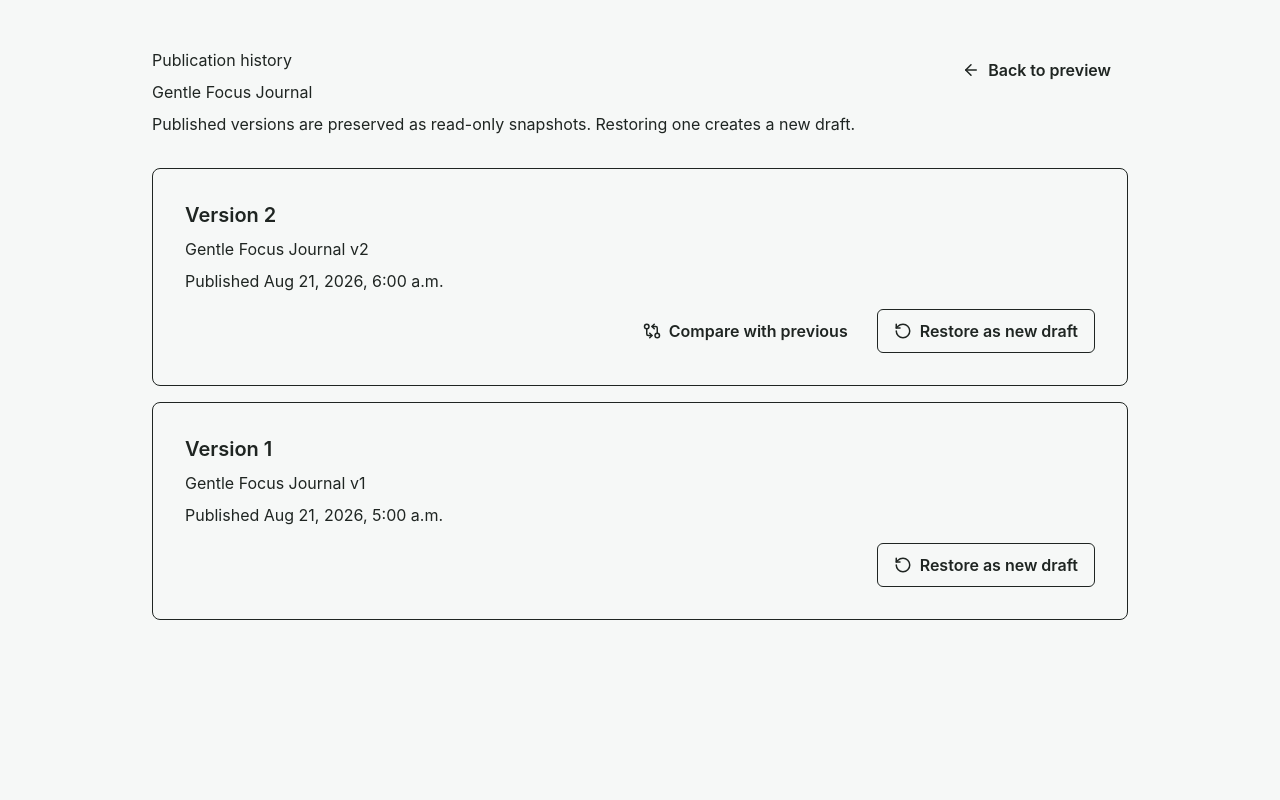
PublicationHistoryPage › compares a published version with its previous snapshot
The width and height of the screenshot is (1280, 800).
Click the button "Compare with previous" at {"x": 745, "y": 331}, box [626,309,865,353]
(page scrolled)
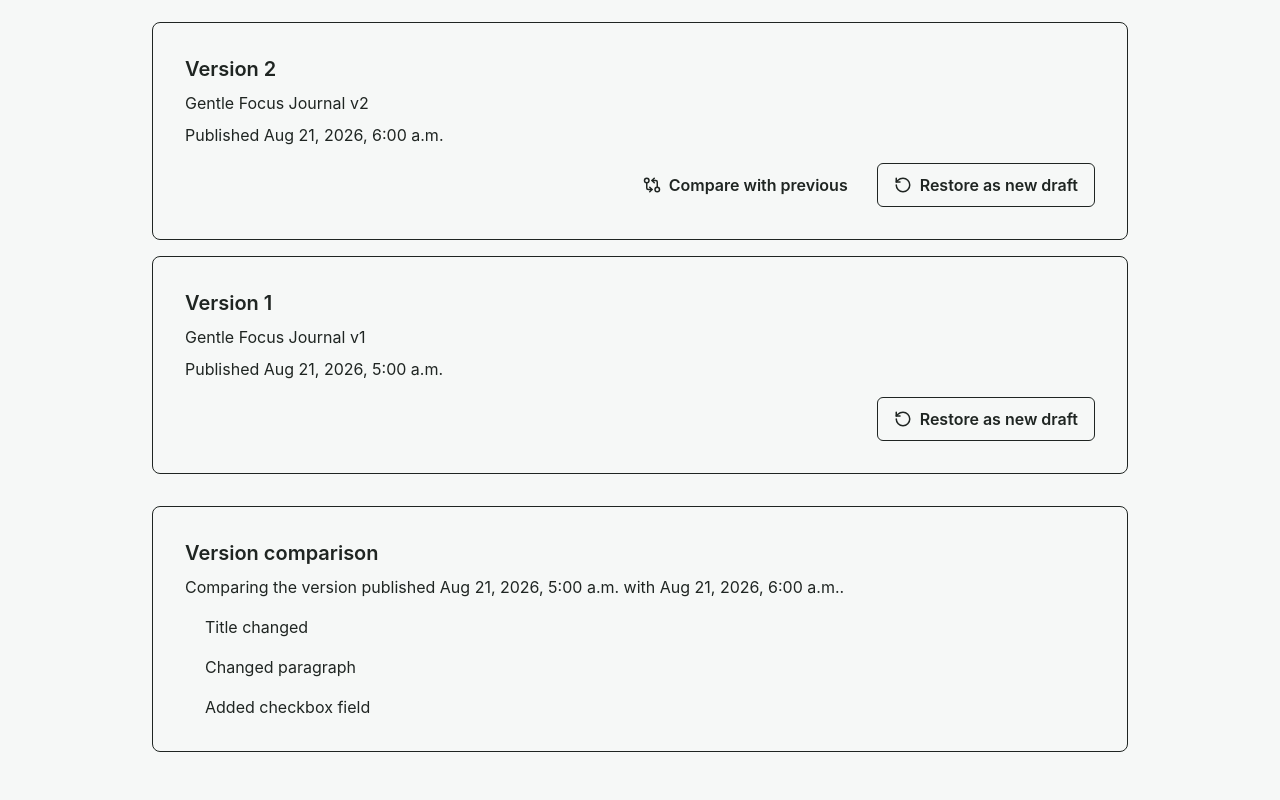
Result: the heading "Version comparison" is shown at [185,541,378,565]
Result: the list named "Revision changes" is shown at [205,617,370,717]
Result: the text "Title changed" is shown at [205,617,308,637]
